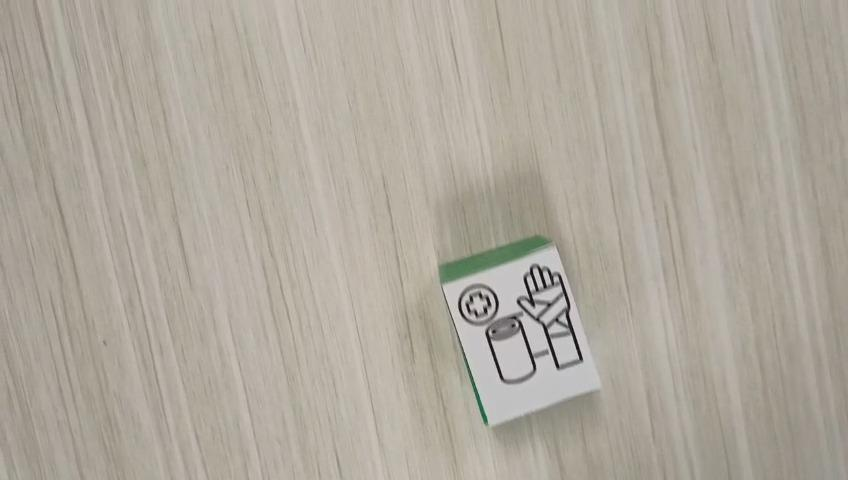Bandages: (437, 233, 602, 428)
